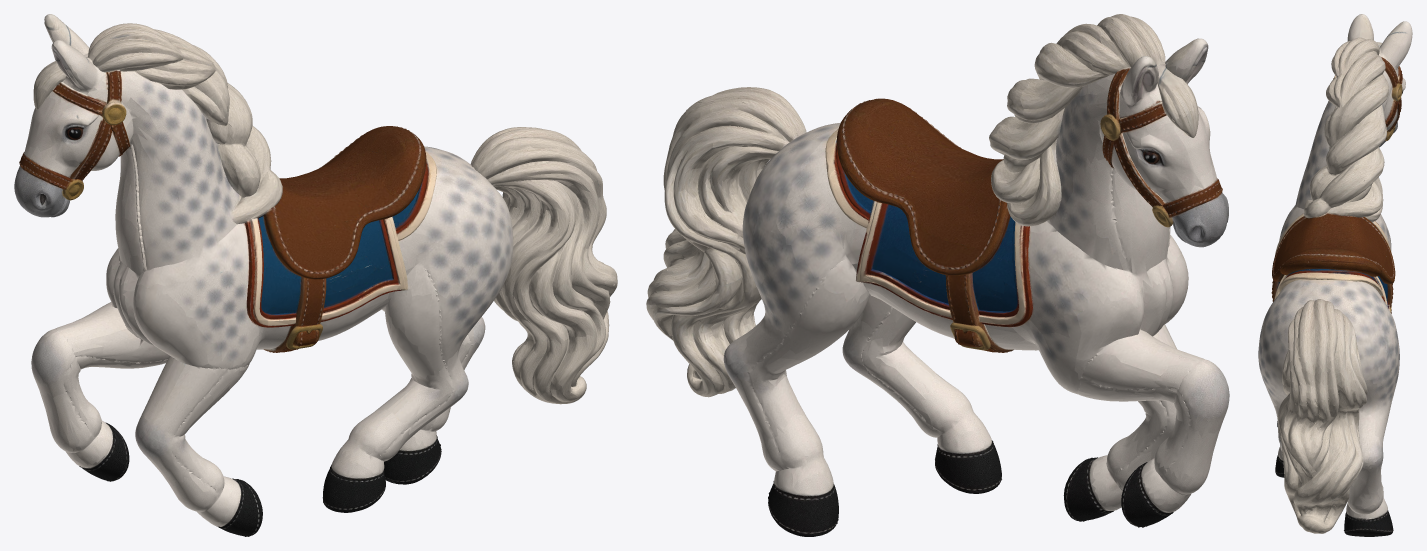
File: horse.glb
The picture shows the model from 3 angles, left to right: view 1: azimuth 30°, elevation 25°; view 2: azimuth 150°, elevation 25°; view 3: azimuth 270°, elevation 25°; orthographic projection. The views are drawn at different scales.
Bounding box in the file's own units: 1.9 × 1.73 × 0.6112.
Materials: 1 (1 with a texture image).
